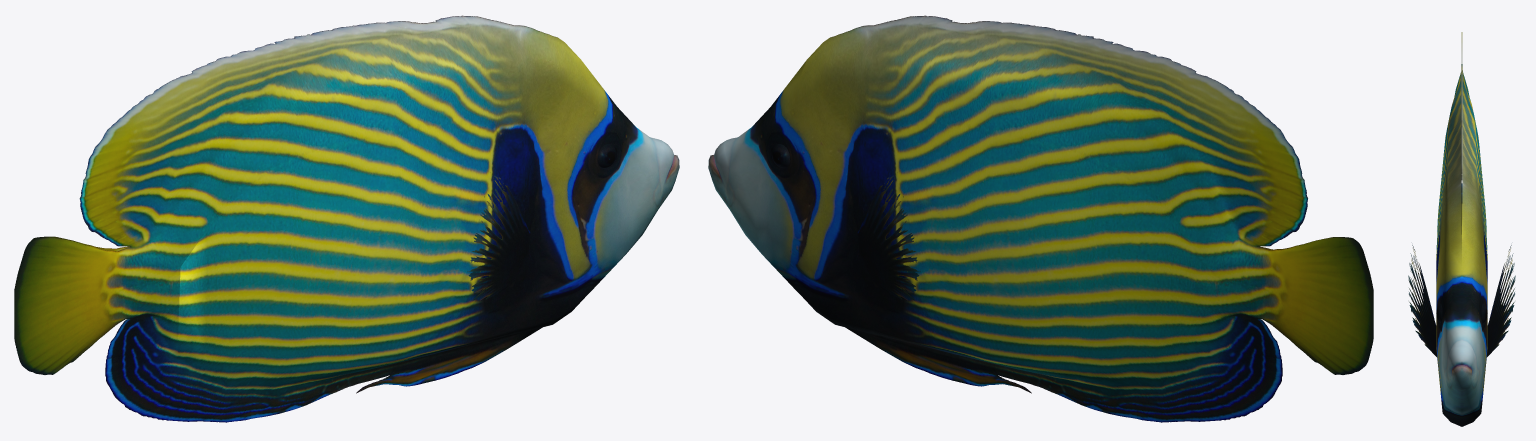
Rendered from SK_EmperorAngelfish.fbx.
The picture shows the model from 3 angles, left to right: view 1: azimuth 30°, elevation 25°; view 2: azimuth 150°, elevation 25°; view 3: azimuth 270°, elevation 25°; orthographic projection. The views are drawn at different scales.
Visible parts, largest first — view 1: SK_EmperorAngelfish; view 2: SK_EmperorAngelfish; view 3: SK_EmperorAngelfish.
Boxes of the visible parts, <box> form: SK_EmperorAngelfish: <box>14,15,679,422</box>; SK_EmperorAngelfish: <box>708,15,1373,422</box>; SK_EmperorAngelfish: <box>1408,32,1515,426</box>.
Bounding box in the file's own units: 94.93 × 53.06 × 18.92.
